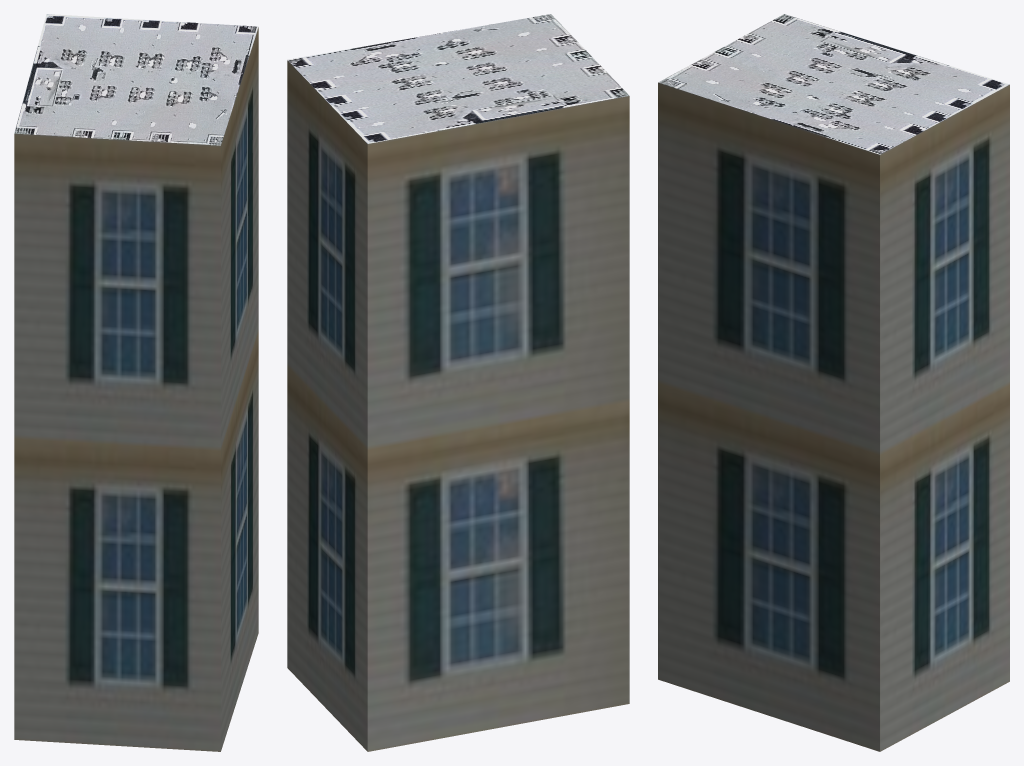
Rendered from ResTex__2143.fbx.
The picture shows the model from 3 angles, left to right: view 1: azimuth 30°, elevation 25°; view 2: azimuth 150°, elevation 25°; view 3: azimuth 270°, elevation 25°; orthographic projection.
Visible parts, largest first — view 1: CityEngineMaterial_7_m, CityEngineMaterial_4_m; view 2: CityEngineMaterial_7_m, CityEngineMaterial_4_m; view 3: CityEngineMaterial_7_m, CityEngineMaterial_4_m.
Part boxes in pixels (bbox=[...]): CityEngineMaterial_7_m: bbox=[14, 27, 258, 751]; CityEngineMaterial_4_m: bbox=[14, 14, 258, 145]; CityEngineMaterial_7_m: bbox=[287, 60, 629, 751]; CityEngineMaterial_4_m: bbox=[287, 14, 629, 143]; CityEngineMaterial_7_m: bbox=[658, 82, 1009, 751]; CityEngineMaterial_4_m: bbox=[658, 14, 1009, 154].
Size of the model in its own units: 3.04 by 6 by 3.2.
2 materials, 2 textured.
